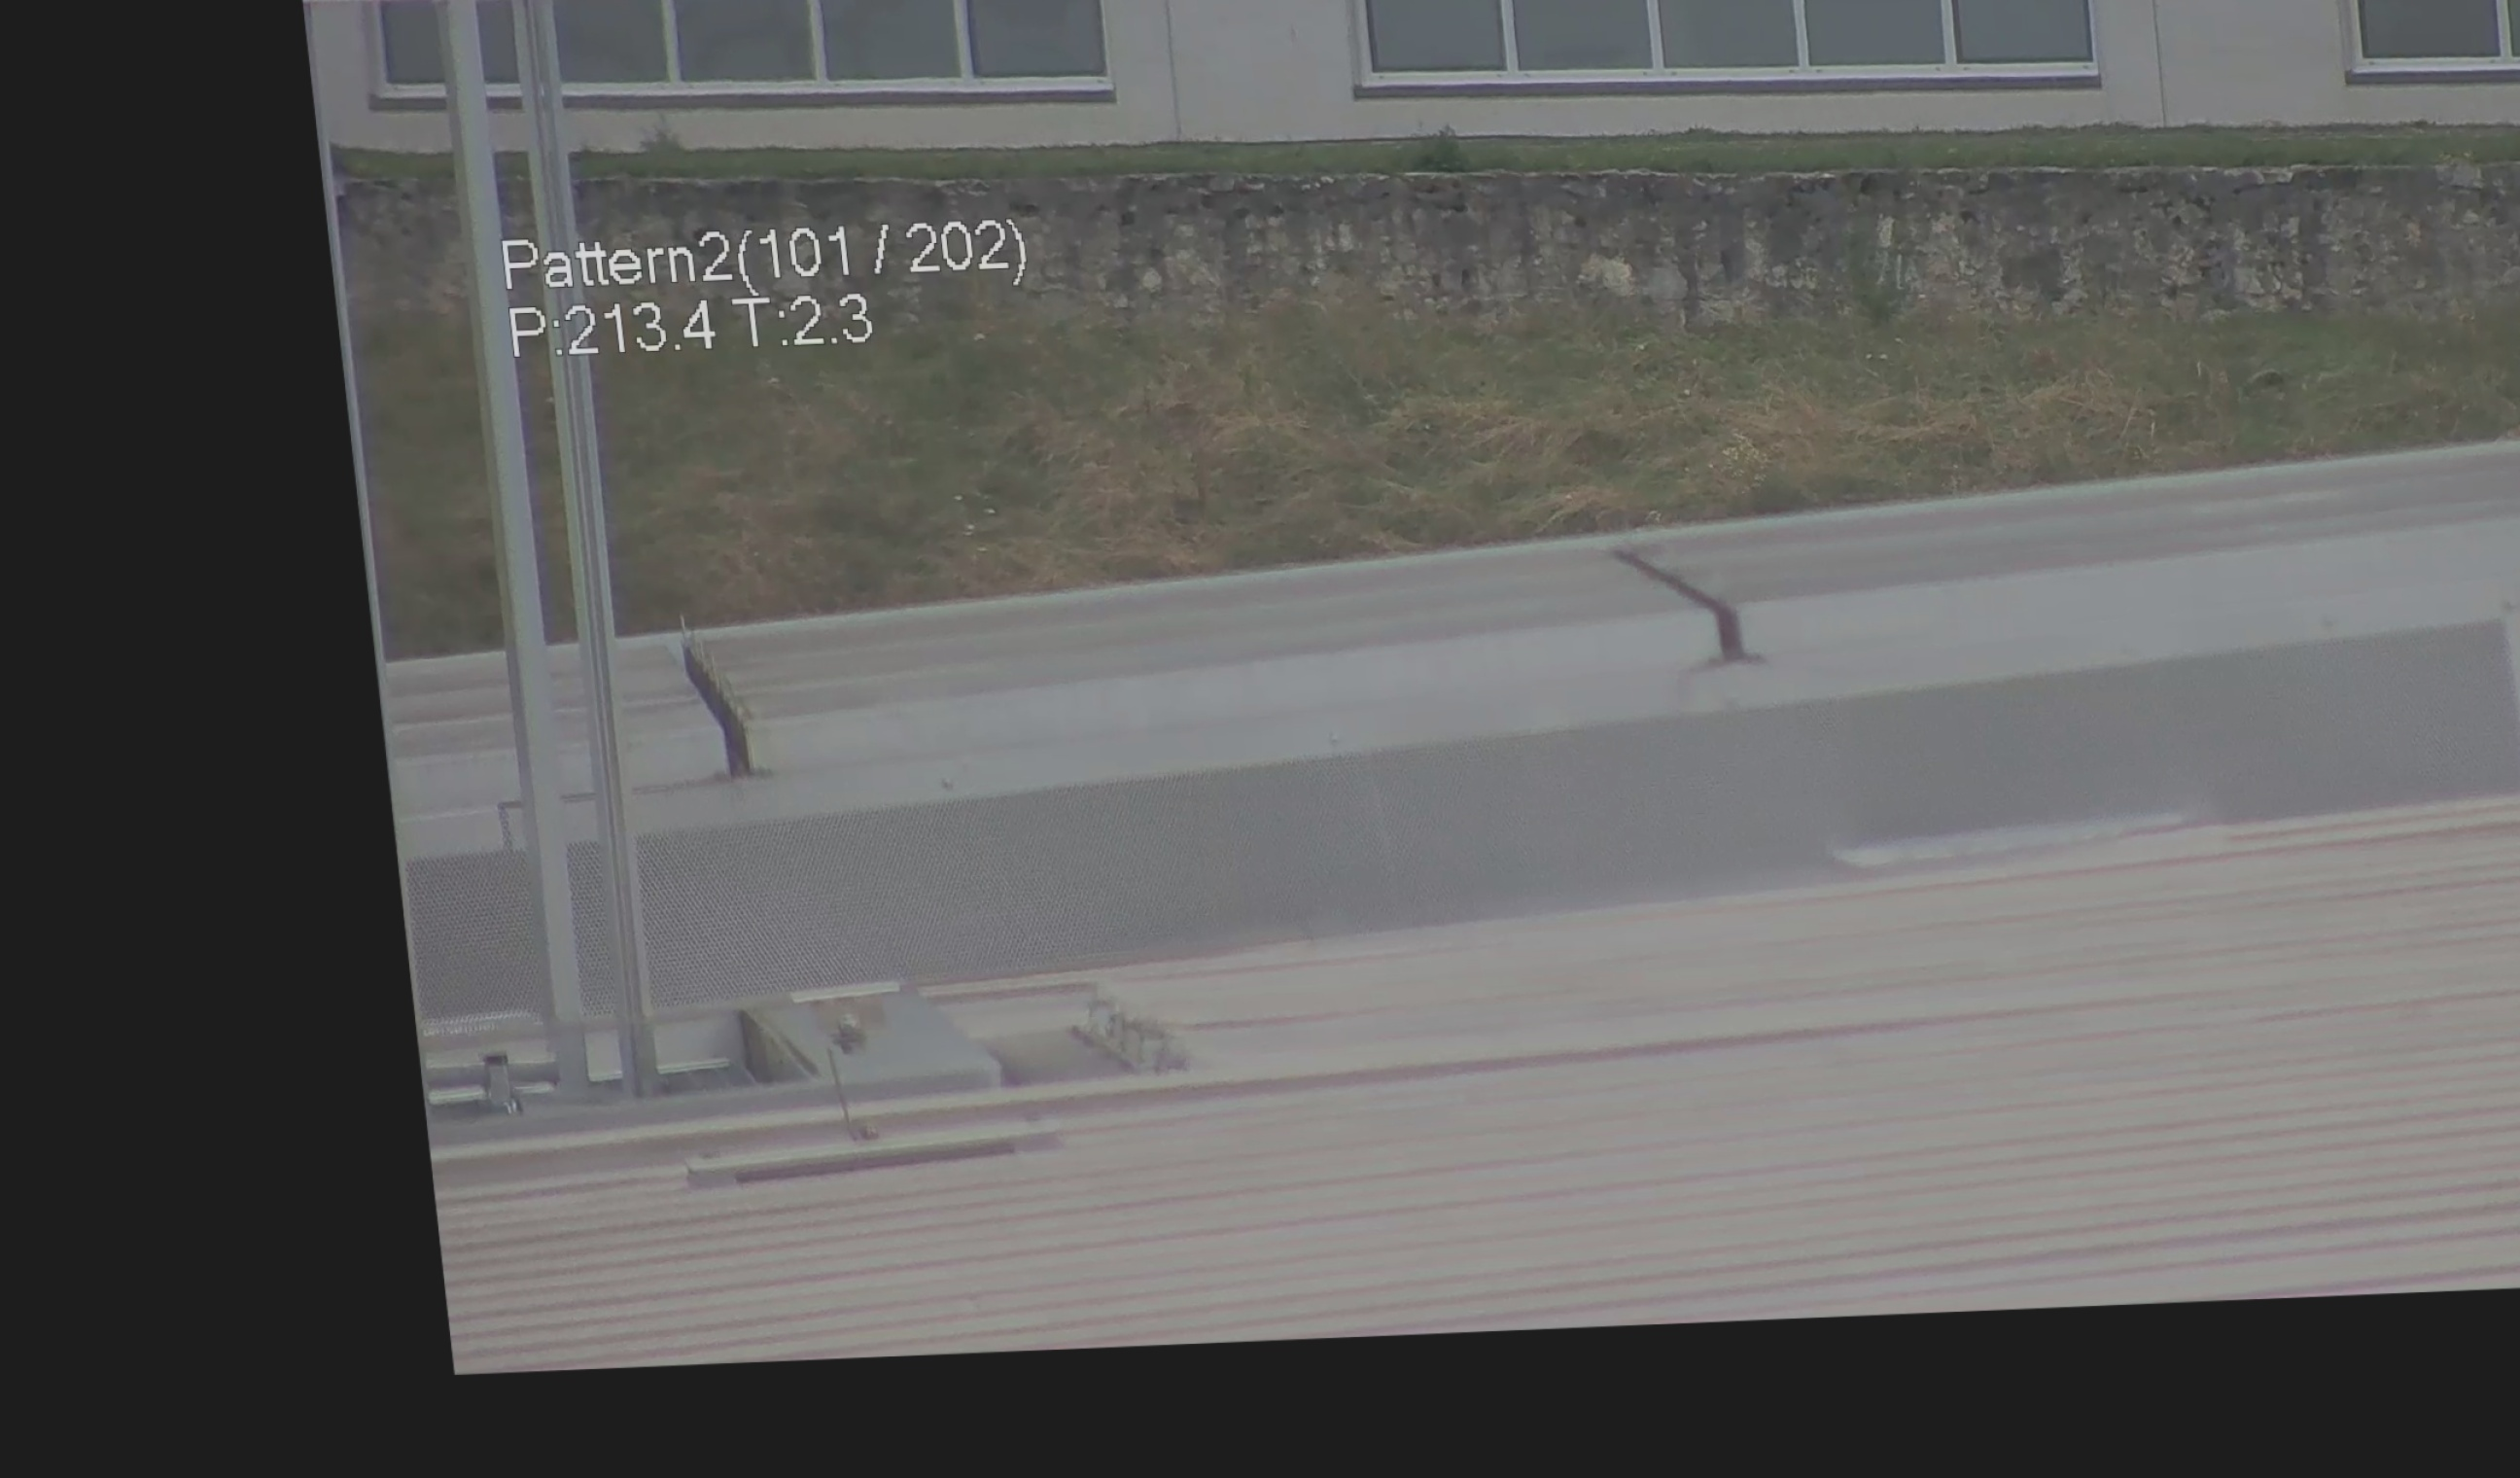Other: (659, 604, 774, 792)
